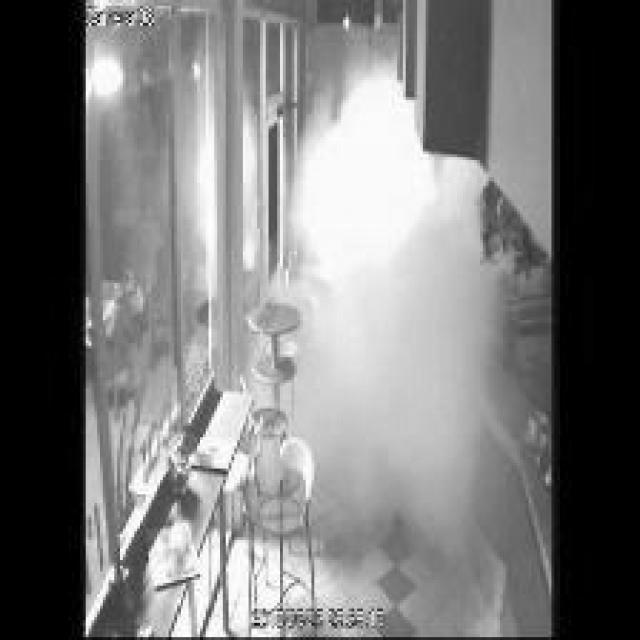fire: (293, 63, 496, 560)
